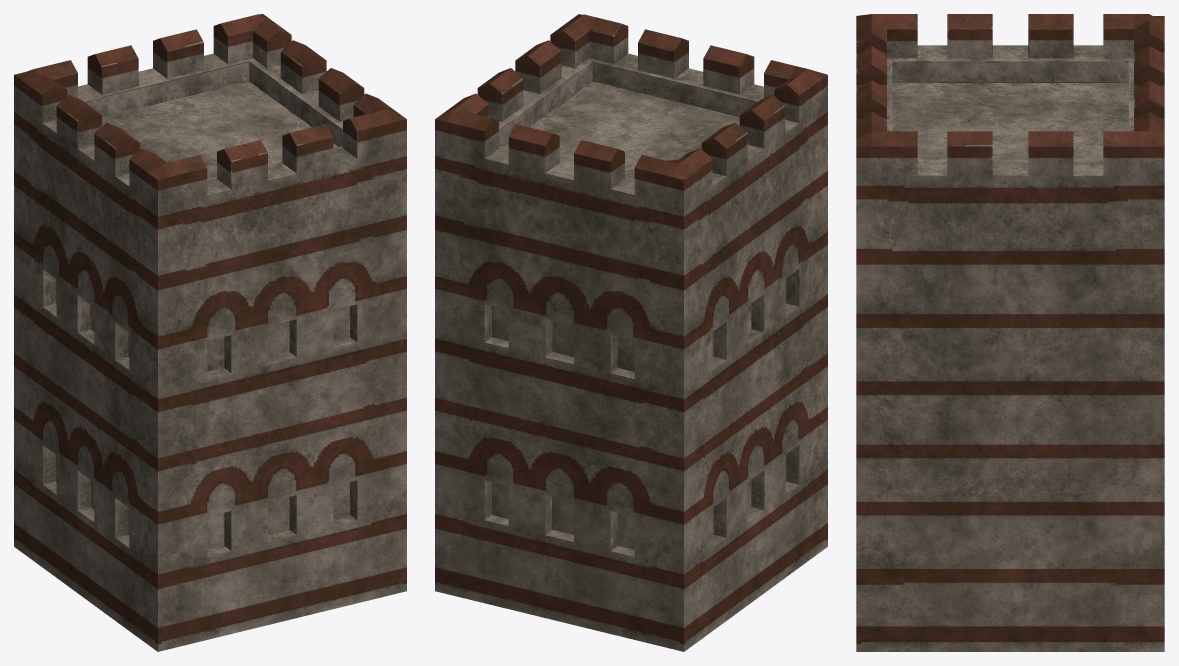
The picture shows the model from 3 angles, left to right: view 1: azimuth 30°, elevation 25°; view 2: azimuth 150°, elevation 25°; view 3: azimuth 270°, elevation 25°; orthographic projection. The views are drawn at different scales.
Visible parts, largest first — view 1: Cube; view 2: Cube; view 3: Cube.
Boxes of the visible parts, box(x1,y1,x2,y2) form: Cube: box(14, 14, 406, 651); Cube: box(435, 14, 827, 651); Cube: box(856, 14, 1164, 651).
Bounding box in the file's own units: 81.03 × 149 × 81.03.
Materials: 1 (1 with a texture image).
